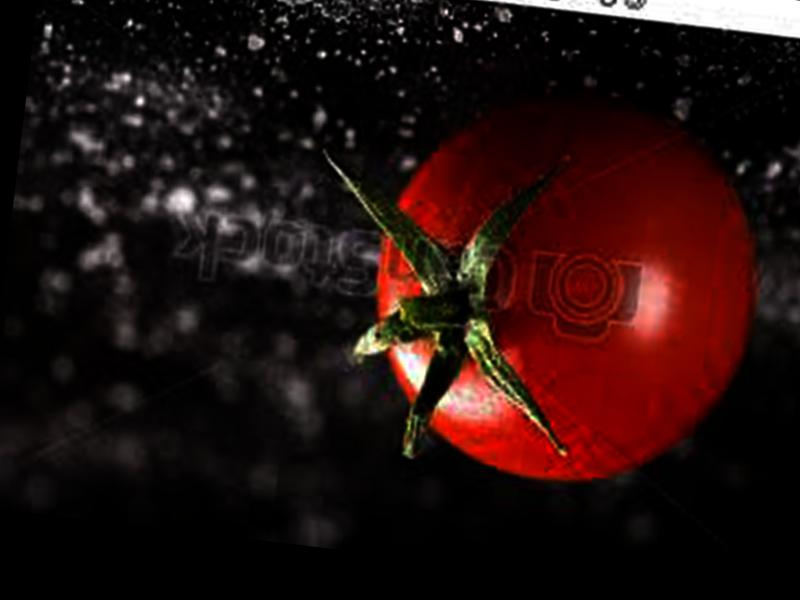Tomato: (354, 76, 776, 503)
